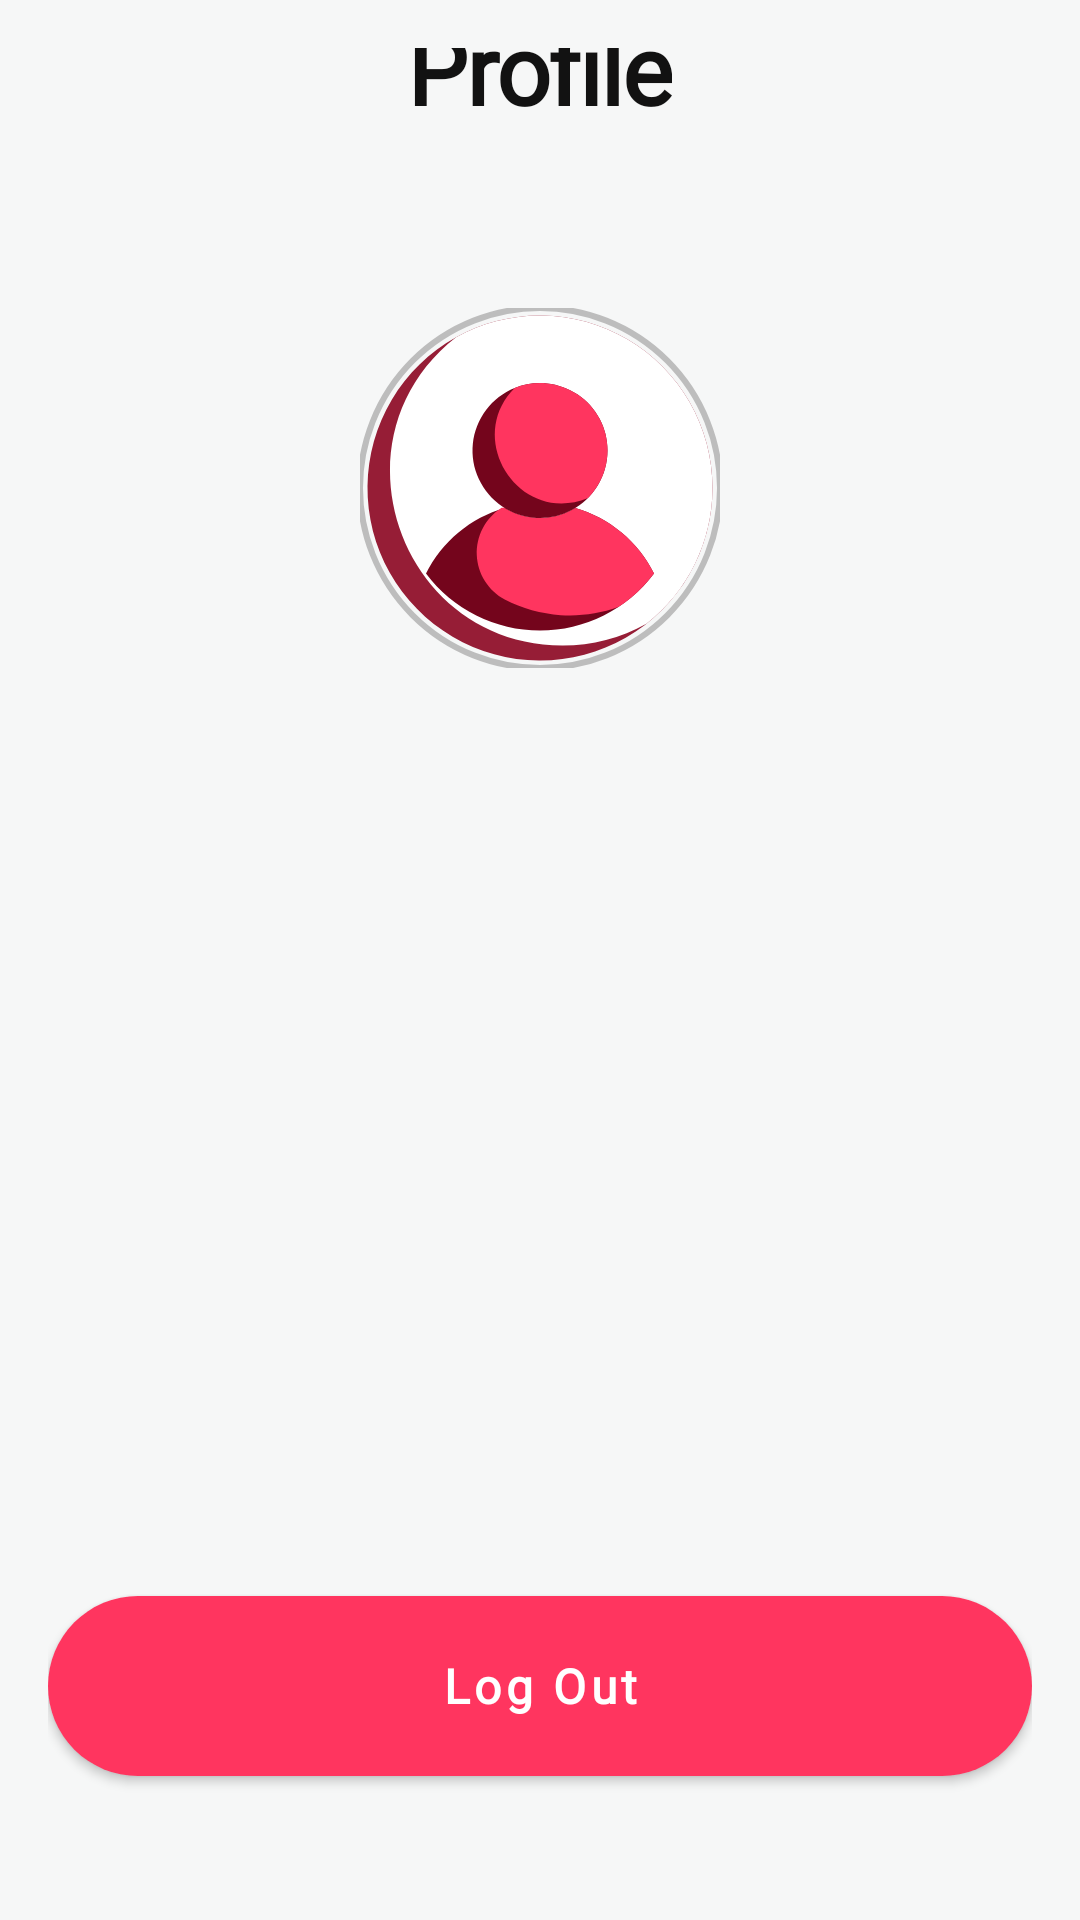

Where to tap for icons on this 1080*1920 app screen, as [x,y]:
profile: [540,488]
